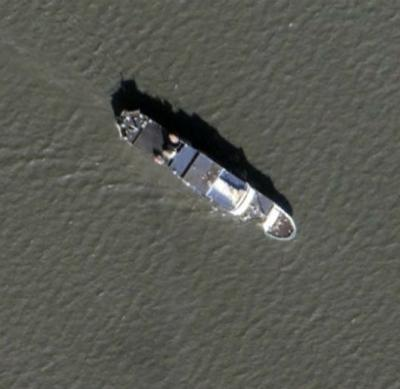Boat: (105, 100, 310, 255)
